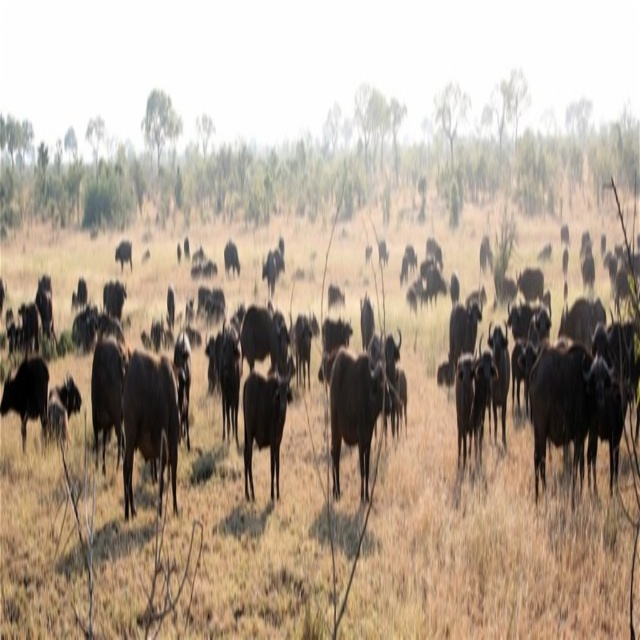Bull: (5, 202, 204, 571), (429, 201, 639, 530), (206, 244, 418, 566), (396, 233, 461, 331), (365, 239, 371, 260)
